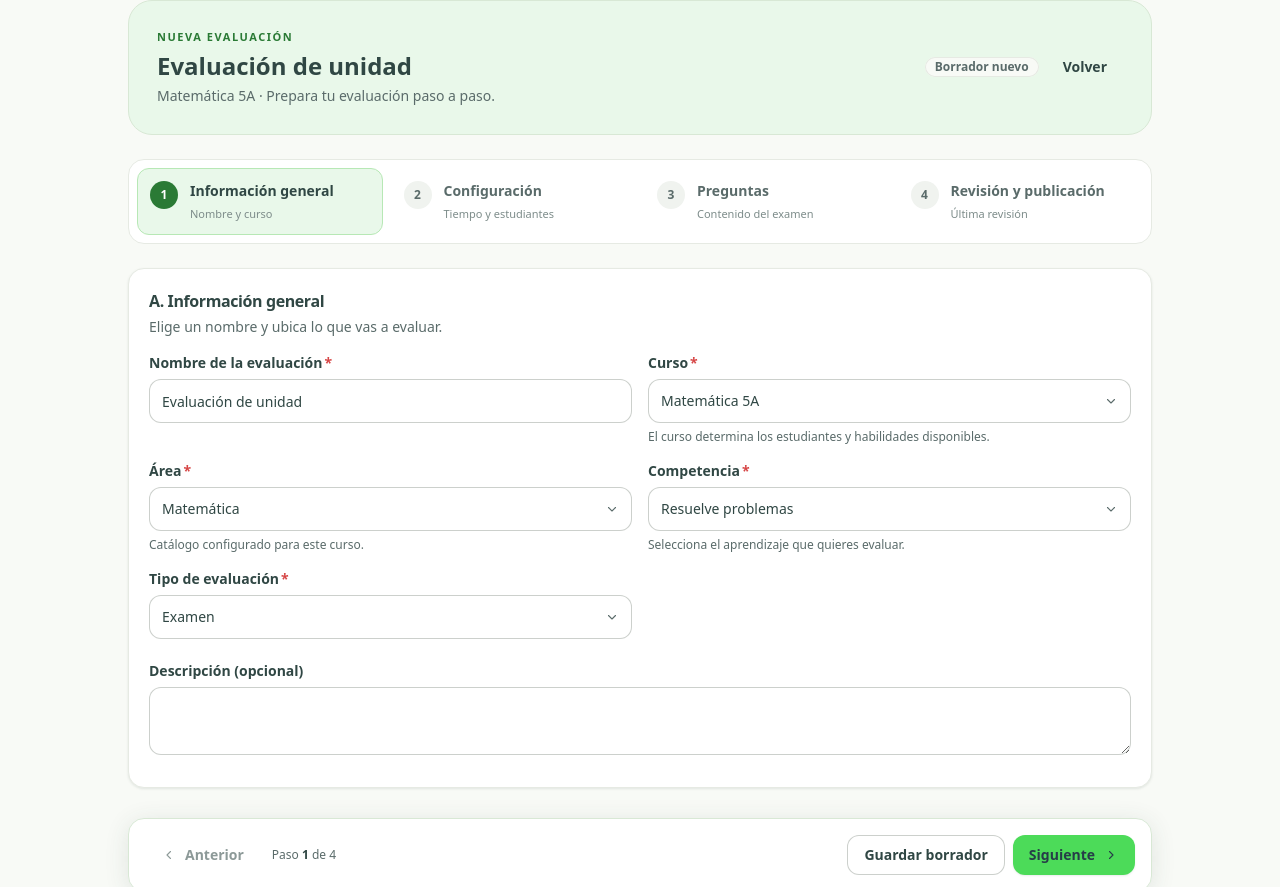
Test: AssessmentEditor › shows field-level feedback and prevents publishing incomplete questions
Click the button with aria-label "4." at (1020, 201), box [898,168,1143,235]
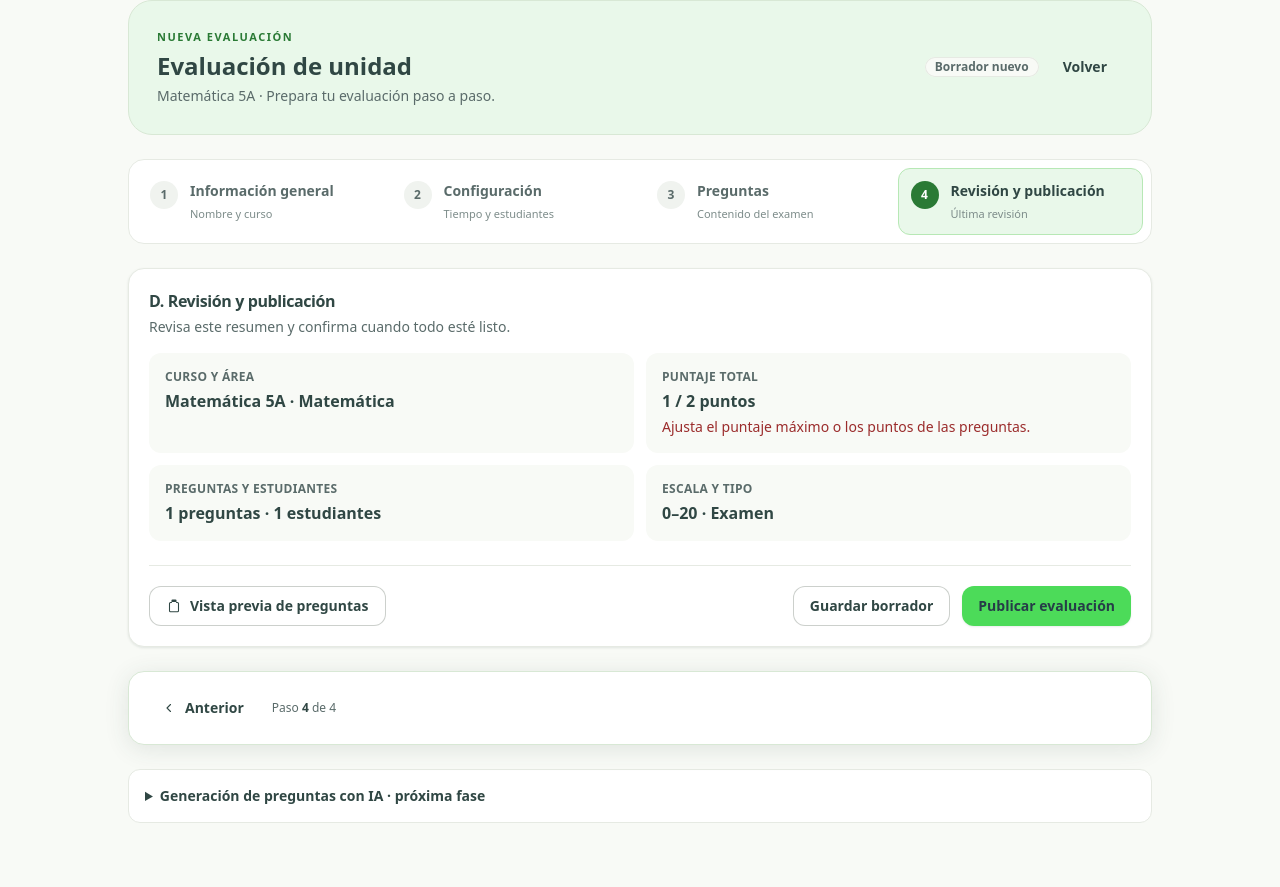
Click the button "Publicar evaluación" at (1047, 606), box [962,586,1131,626]
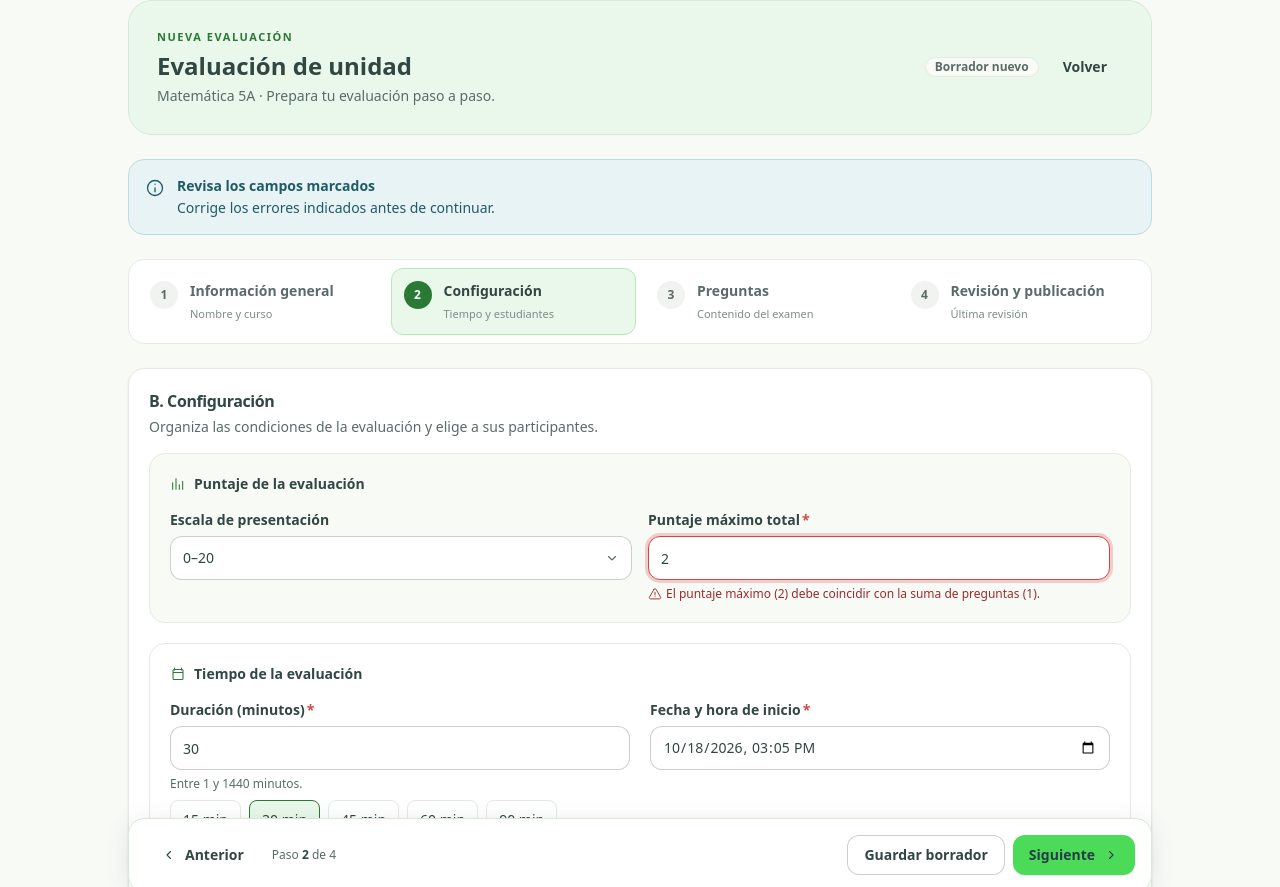
Now the text "El puntaje máximo (2) debe coincidir con la suma de preguntas (1)." is shown, box [648,586,1040,602]
